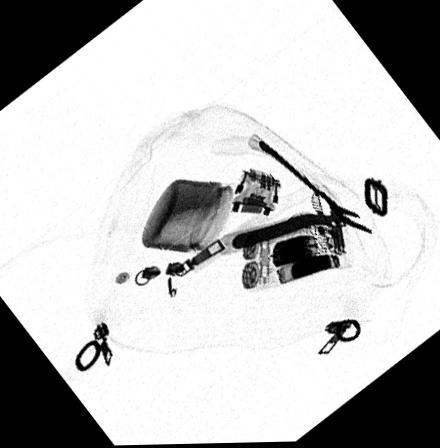Pliers: (228, 139, 371, 253)
